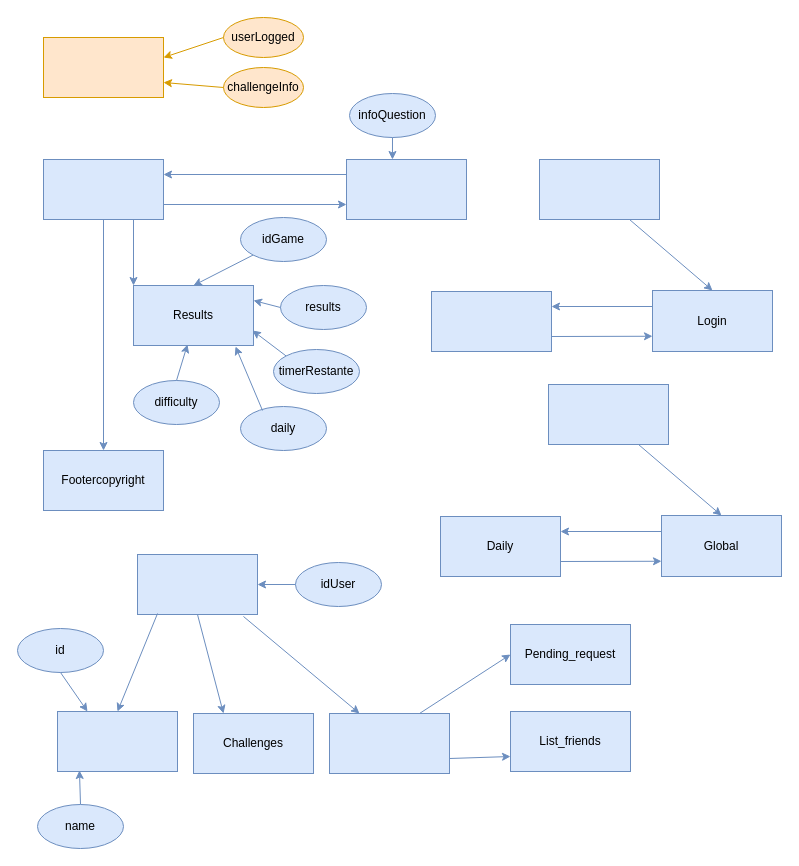
Some shapes in this 799 by 866 pixel diagram are drawn without their labels. Here are the shapes that lost their labels. From the top down, the centre of each, then its label:
At pixel 103 67: "PInia".
At pixel 103 189: "Game".
At pixel 406 189: "Question".
At pixel 599 189: "Join".
At pixel 491 321: "Register".
At pixel 608 414: "Ranking".
At pixel 197 584: "Profile".
At pixel 117 741: "Record".
At pixel 389 743: "Friends".
